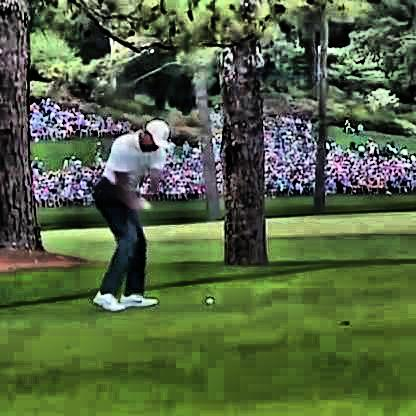golfball: (202, 293, 212, 303)
